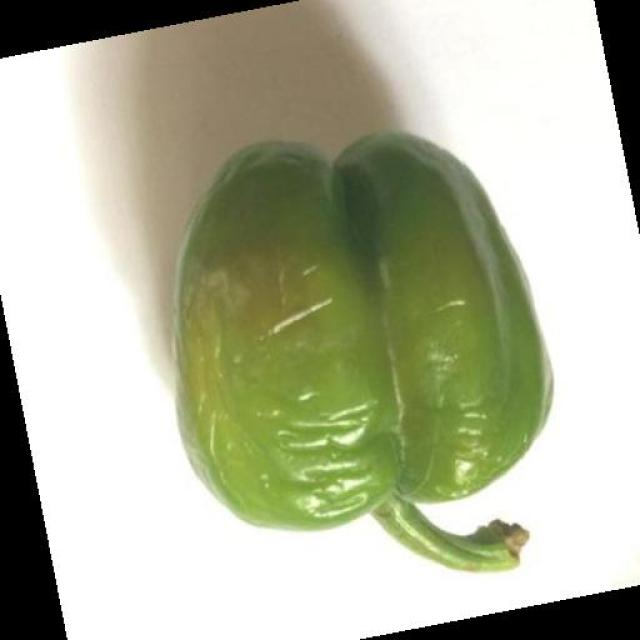Stale_Capsicum: (171, 160, 384, 488)
